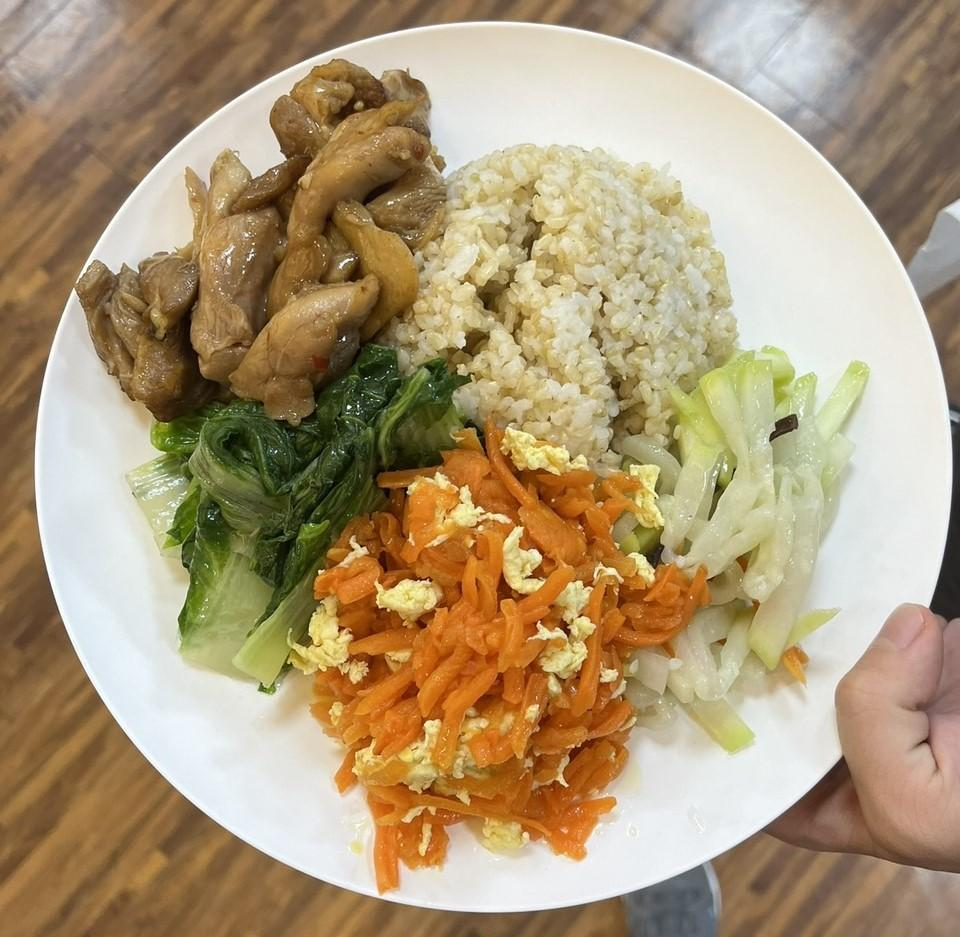big fried chicken leg: (34, 30, 960, 919)
box: (406, 144, 738, 472)
braised fish fillet: (311, 434, 660, 892), (140, 356, 444, 684), (639, 346, 865, 743)
braised pork: (65, 42, 434, 419)
